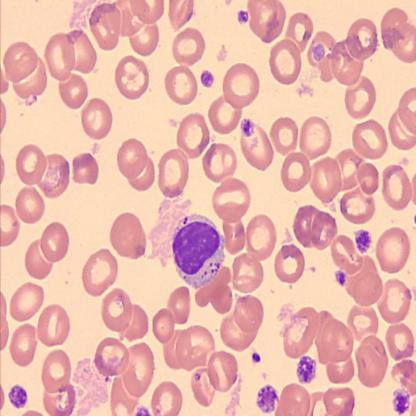Lymphocyte: (170, 213, 226, 289)
